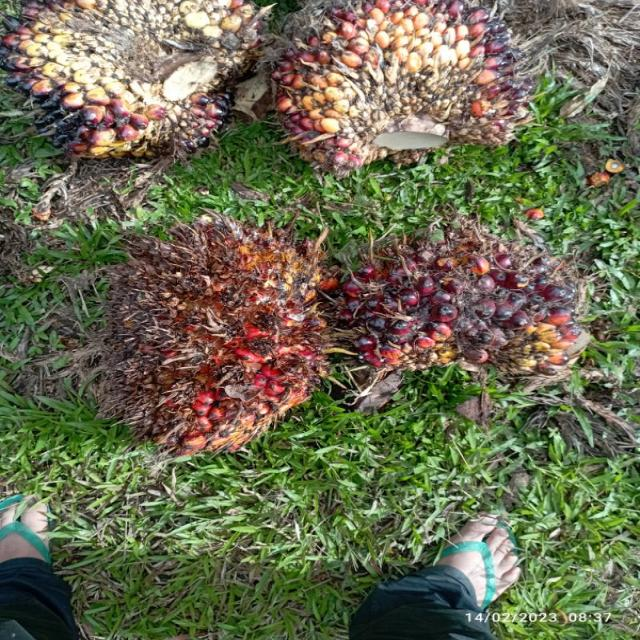fraksi 1: (320, 194, 625, 430)
fraksi 4: (61, 173, 349, 476)
